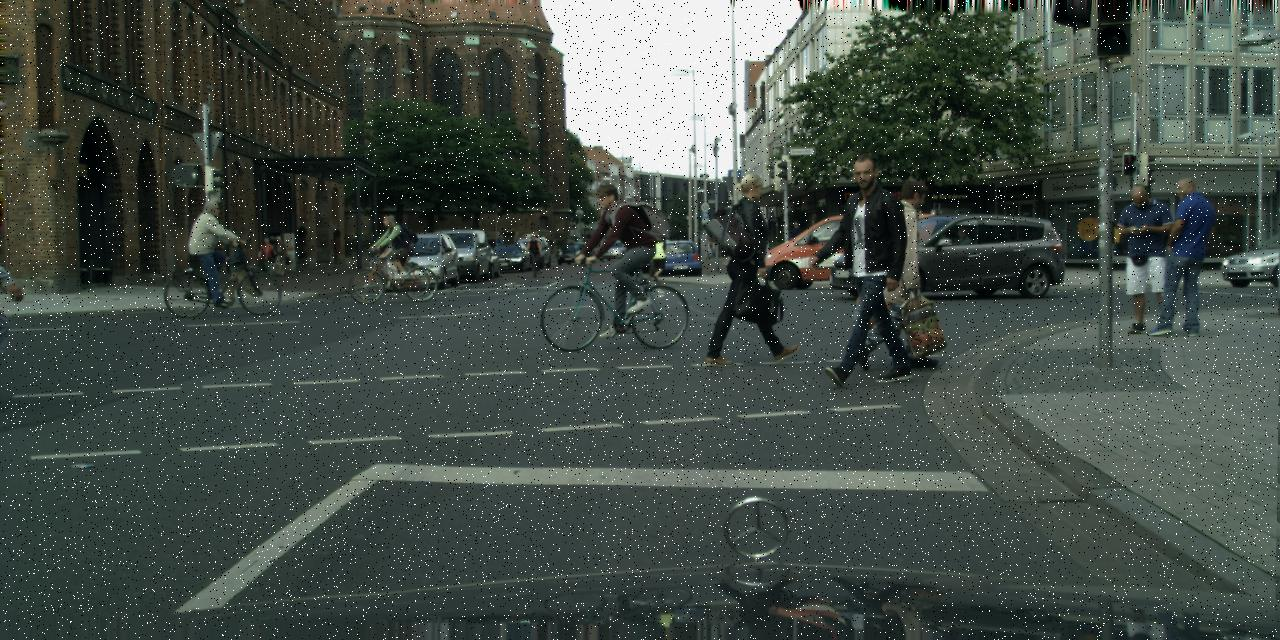ped: (818, 154, 910, 378), (713, 172, 789, 360), (863, 182, 938, 363), (1150, 176, 1214, 334), (1116, 184, 1176, 329), (590, 184, 644, 320), (192, 200, 232, 298), (381, 215, 408, 285), (646, 226, 669, 282), (382, 234, 404, 288), (786, 222, 806, 267), (270, 236, 286, 276), (260, 238, 274, 274), (527, 236, 540, 269)
